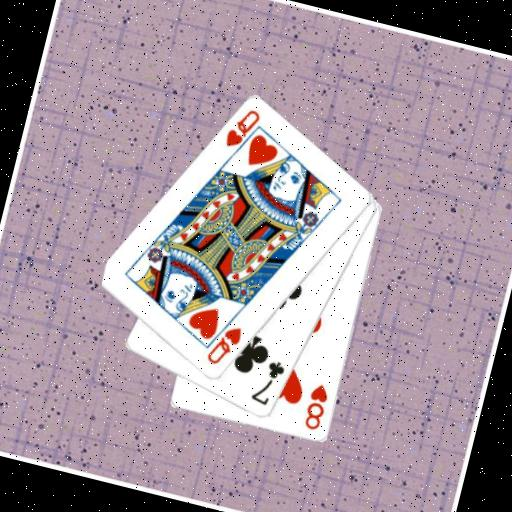7C: (246, 355, 288, 411)
8H: (300, 379, 334, 433)
QH: (219, 102, 267, 166), (202, 319, 245, 371)
